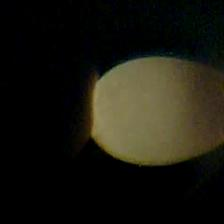infertile: (86, 56, 224, 166)
